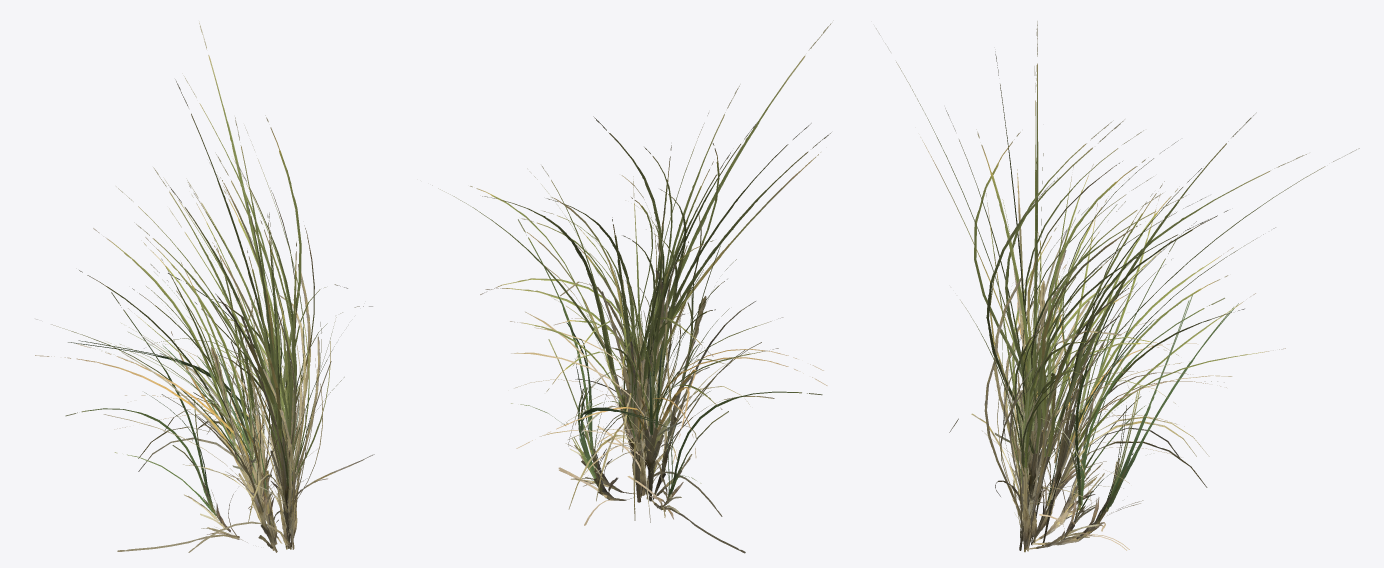
The model's file is ui2oagjia_tier_3_nonUE.gltf.
3 views of the same model, side by side, from view 1: azimuth 30°, elevation 25°; view 2: azimuth 150°, elevation 25°; view 3: azimuth 270°, elevation 25° (orthographic). The views are drawn at different scales.
Visible parts, largest first — view 1: SM_ui2oagjia_VarA, SM_ui2oagjia_VarD, SM_ui2oagjia_VarE, SM_ui2oagjia_VarG, SM_ui2oagjia_VarF, SM_ui2oagjia_VarH; view 2: SM_ui2oagjia_VarA, SM_ui2oagjia_VarD, SM_ui2oagjia_VarE, SM_ui2oagjia_VarB, SM_ui2oagjia_VarG; view 3: SM_ui2oagjia_VarA, SM_ui2oagjia_VarD, SM_ui2oagjia_VarE, SM_ui2oagjia_VarB, SM_ui2oagjia_VarH, SM_ui2oagjia_VarG, SM_ui2oagjia_VarF.
Part boxes in pixels (x1,y1,x2,y2): SM_ui2oagjia_VarA: (35, 21, 319, 552); SM_ui2oagjia_VarD: (77, 117, 331, 549); SM_ui2oagjia_VarE: (135, 242, 372, 549); SM_ui2oagjia_VarG: (190, 285, 330, 547); SM_ui2oagjia_VarF: (195, 220, 296, 548); SM_ui2oagjia_VarH: (221, 344, 322, 548); SM_ui2oagjia_VarA: (432, 20, 833, 553); SM_ui2oagjia_VarD: (510, 84, 823, 525); SM_ui2oagjia_VarE: (480, 145, 749, 497); SM_ui2oagjia_VarB: (511, 219, 636, 494); SM_ui2oagjia_VarG: (551, 276, 697, 472); SM_ui2oagjia_VarA: (876, 21, 1359, 549); SM_ui2oagjia_VarD: (945, 108, 1285, 550); SM_ui2oagjia_VarE: (949, 191, 1178, 552); SM_ui2oagjia_VarB: (1026, 286, 1224, 549); SM_ui2oagjia_VarH: (997, 311, 1091, 518); SM_ui2oagjia_VarG: (1006, 299, 1126, 519); SM_ui2oagjia_VarF: (993, 225, 1134, 507).
Size of what is drawn, in the model's own units: 0.7038 by 0.9068 by 0.8645.
1 material, 1 textured.
